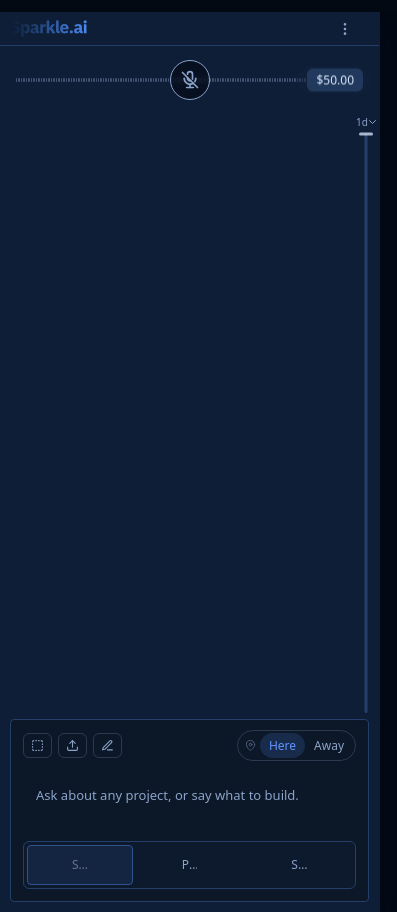
Test: ConciergeHost — an address that cannot be honoured › says so when the named agent cannot take a message, and keeps the words
Type "@Kraken Auth ship the DMG" into the text box named "Message" at (190,804), box [23,775,356,833]
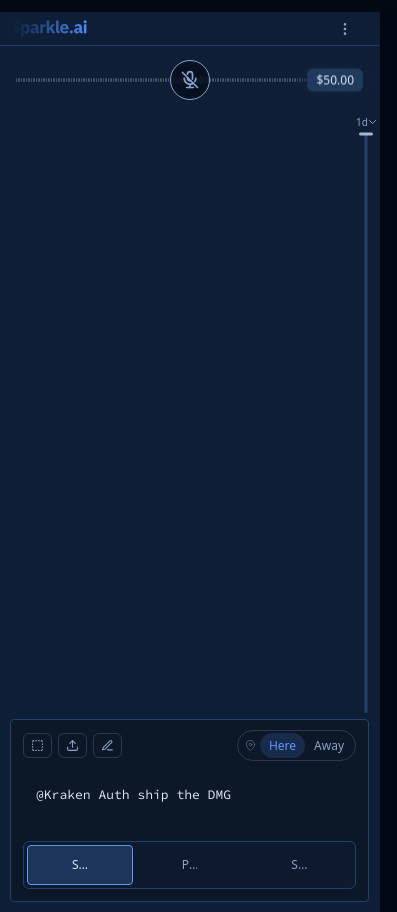
Click the button "Send" at (80,865), box [27,845,133,885]
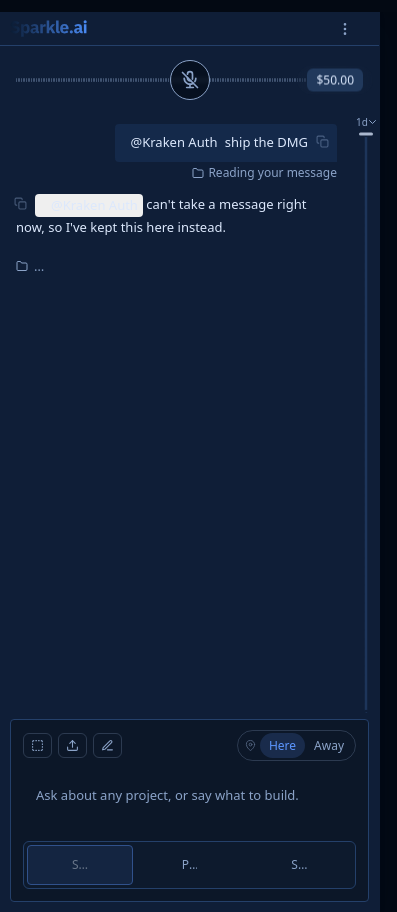
Expected: the element with test id "concierge-thread" shows "can't take a message", [16,194,306,236]
